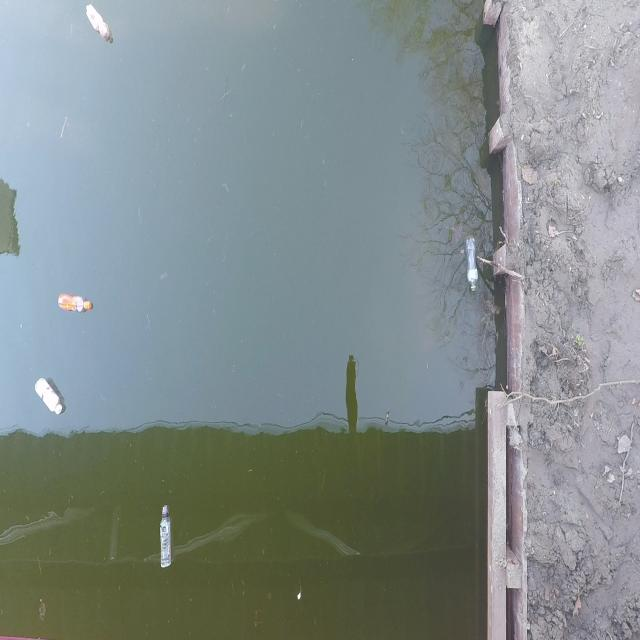Bouteille plastique: (34, 375, 64, 417), (85, 1, 111, 40), (465, 238, 480, 291), (159, 504, 171, 566), (56, 294, 91, 312)
